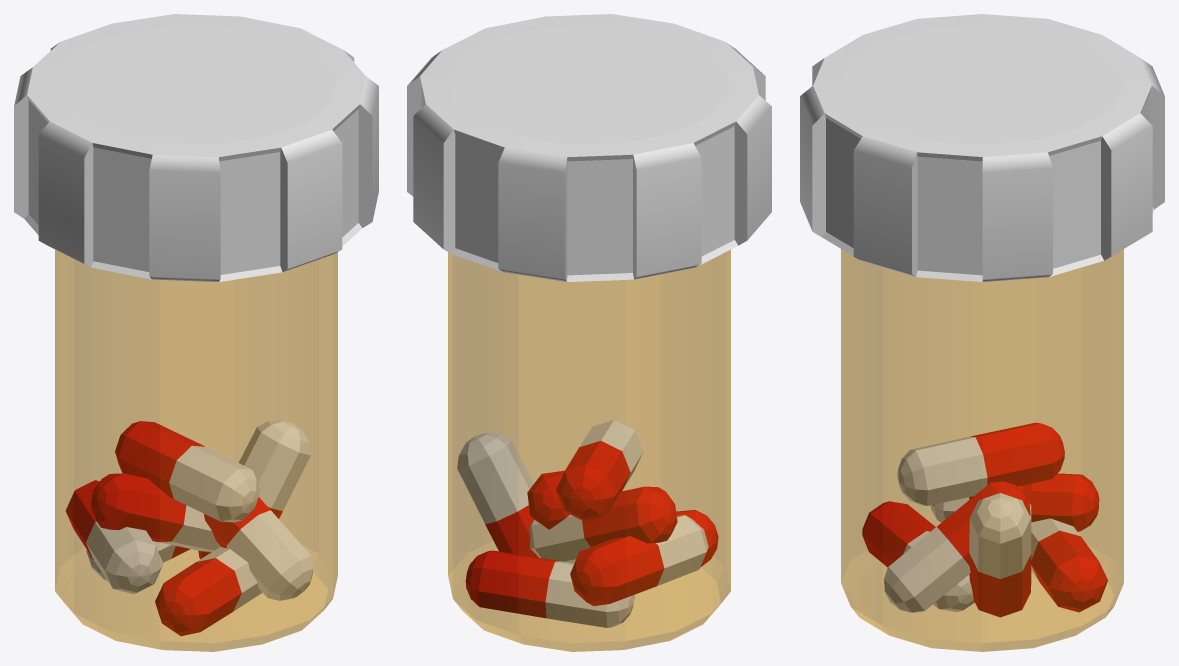
File: SM_Item_Ammo_Pillbox.fbx
The picture shows the model from 3 angles, left to right: view 1: azimuth 30°, elevation 25°; view 2: azimuth 150°, elevation 25°; view 3: azimuth 270°, elevation 25°; orthographic projection.
Parts seen in each view (by area): view 1: pCylinder2; view 2: pCylinder2; view 3: pCylinder2.
Part boxes in pixels (bbox=[...]): pCylinder2: bbox=[14, 14, 378, 651]; pCylinder2: bbox=[407, 14, 771, 651]; pCylinder2: bbox=[800, 14, 1164, 651].
Size of the model in its own units: 2.58 by 3.99 by 2.58.
